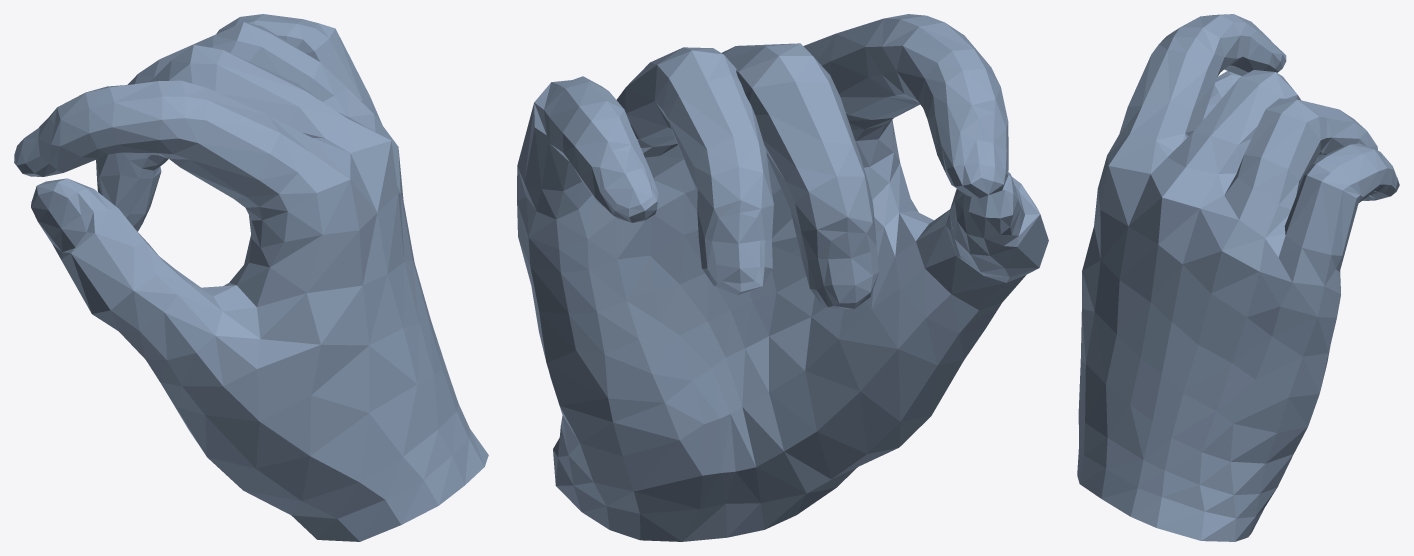
The picture shows the model from 3 angles, left to right: view 1: azimuth 30°, elevation 25°; view 2: azimuth 150°, elevation 25°; view 3: azimuth 270°, elevation 25°; orthographic projection. The views are drawn at different scales.
Bounding box in the file's own units: 0.1215 × 0.1308 × 0.093.
